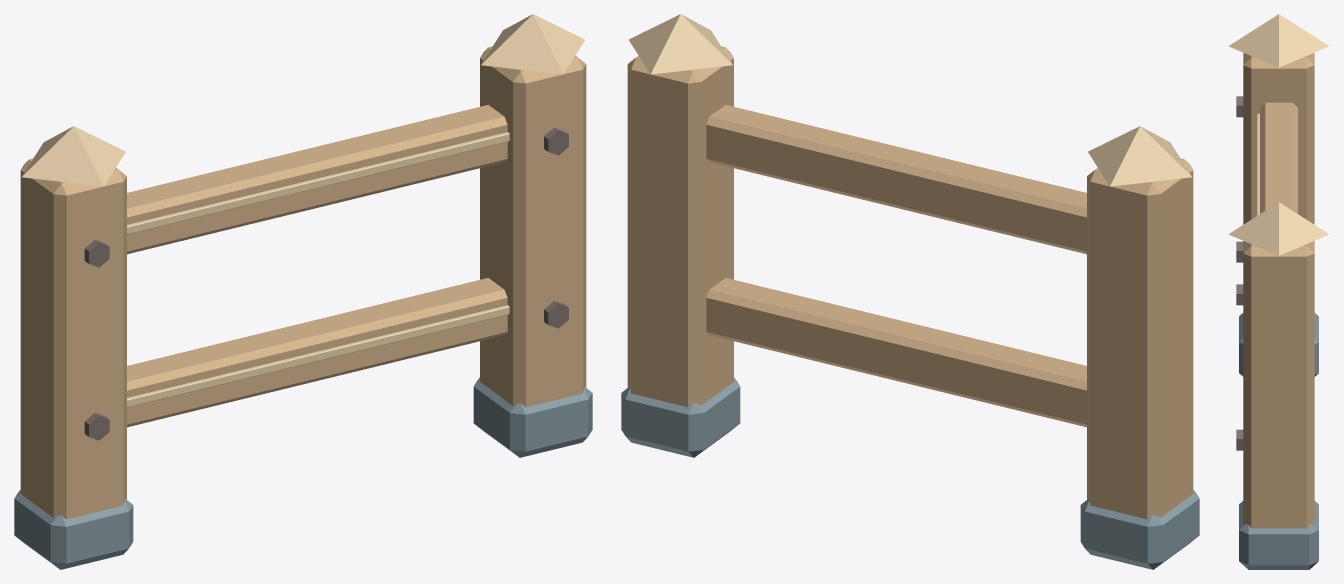
File: fence.fbx
3 views of the same model, side by side, from view 1: azimuth 30°, elevation 25°; view 2: azimuth 150°, elevation 25°; view 3: azimuth 270°, elevation 25° (orthographic). The views are drawn at different scales.
Visible parts, largest first — view 1: fence_mesh; view 2: fence_mesh; view 3: fence_mesh.
Part boxes in pixels (x1,y1,x2,y2): fence_mesh: (14,14,592,569); fence_mesh: (621,14,1199,569); fence_mesh: (1228,14,1329,569).
Bounding box in the file's own units: 1.23 × 0.88 × 0.228.
